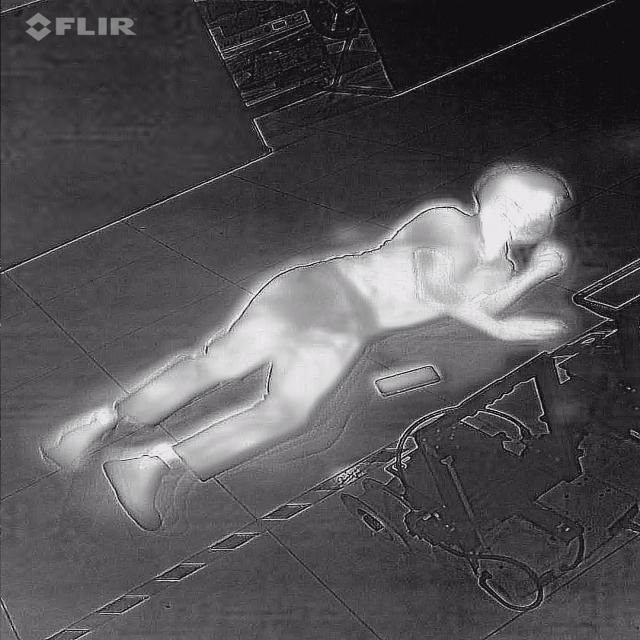Victim: (38, 158, 584, 537)
